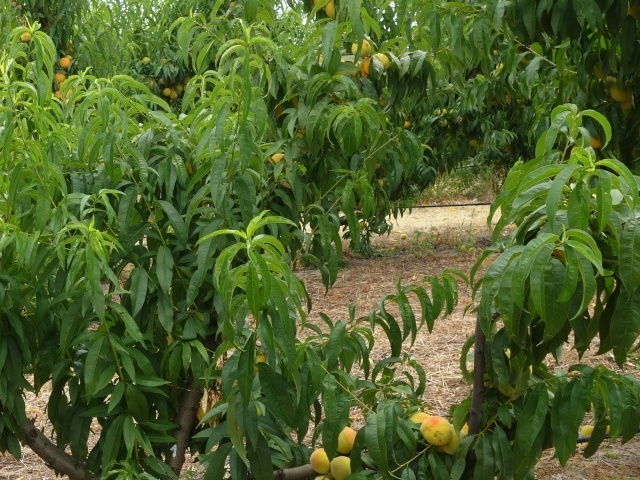peach: (419, 409, 454, 450), (332, 423, 367, 456), (304, 441, 335, 475), (406, 403, 433, 437), (326, 448, 355, 479), (608, 77, 634, 108), (350, 33, 374, 60), (369, 49, 393, 75)
